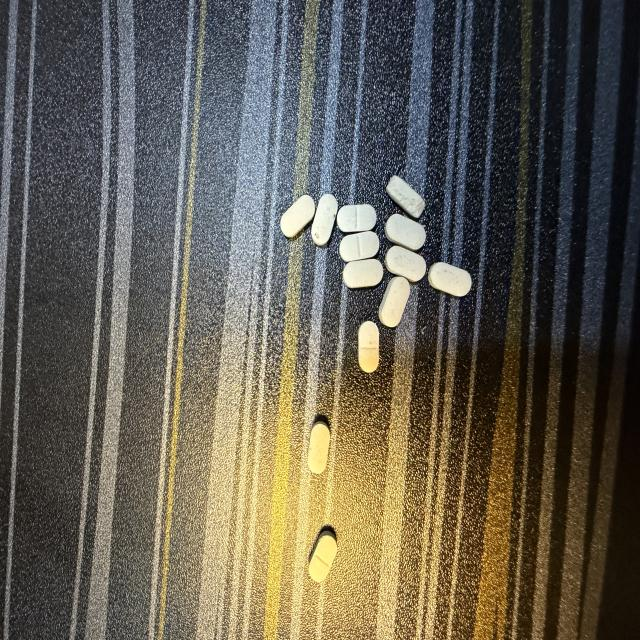pill: (387, 176, 425, 217), (379, 277, 410, 327), (428, 263, 471, 297), (385, 214, 425, 250), (385, 246, 426, 281), (309, 531, 337, 582), (281, 195, 315, 237), (312, 194, 337, 245), (340, 231, 379, 262), (343, 259, 383, 288), (308, 422, 329, 474), (358, 321, 379, 372), (337, 205, 376, 232)
